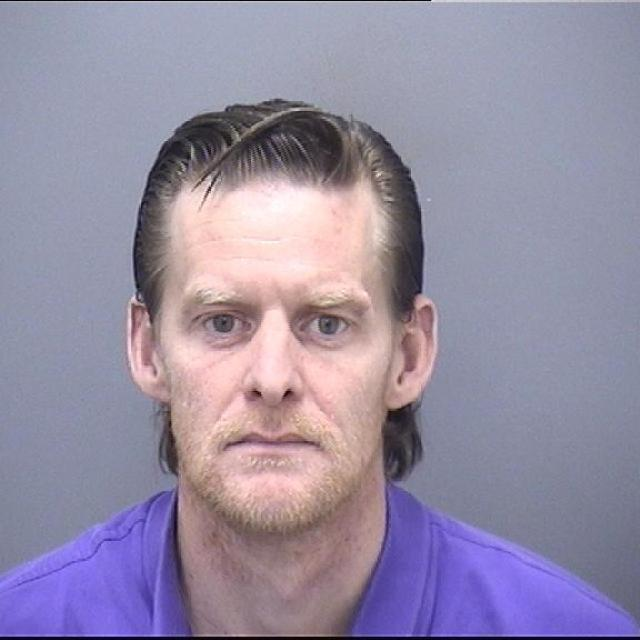human: (2, 89, 640, 640)
